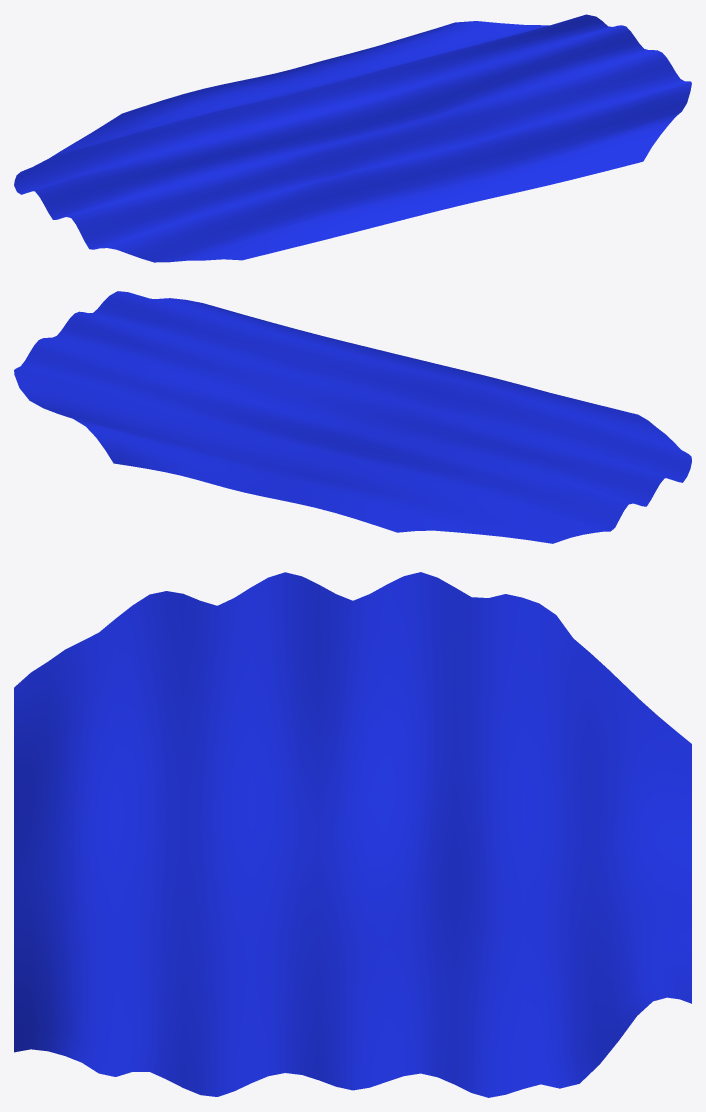
The model's file is SEA.fbx.
The picture shows the model from 3 angles, top to bottom: view 1: azimuth 30°, elevation 25°; view 2: azimuth 150°, elevation 25°; view 3: azimuth 270°, elevation 25°; orthographic projection. The views are drawn at different scales.
Parts seen in each view (by area): view 1: turbulent_ocean; view 2: turbulent_ocean; view 3: turbulent_ocean.
Part boxes in pixels (<box>): turbulent_ocean: <box>14,14,691,262</box>; turbulent_ocean: <box>14,291,691,543</box>; turbulent_ocean: <box>14,572,691,1097</box>.
Bounding box in the file's own units: 1568 × 99.23 × 831.
